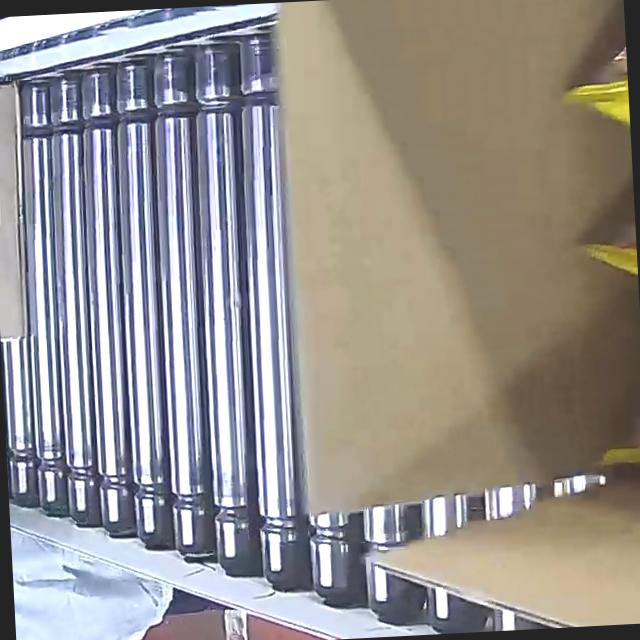salted: (528, 0, 640, 500)
